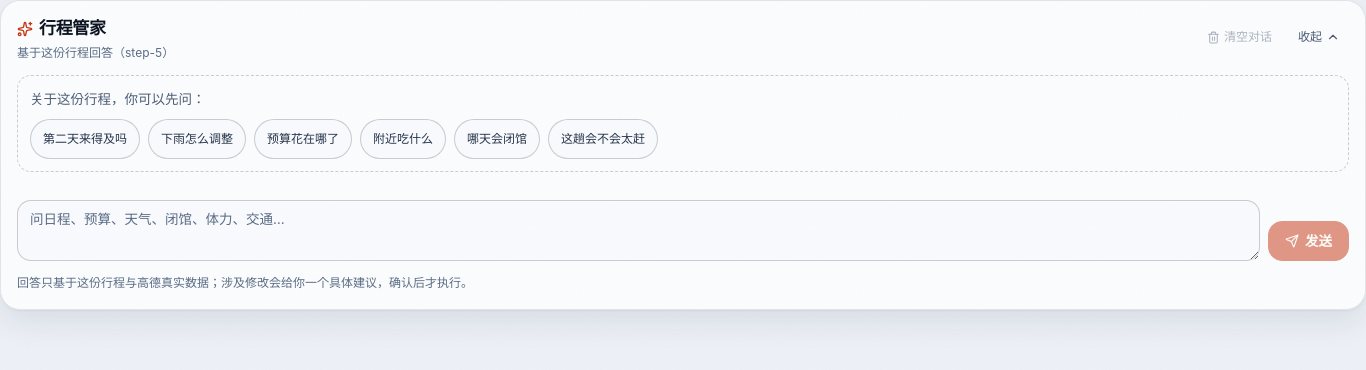
it: PlanCopilot › 点推荐问题即发送：POST /api/plan/chat，body 带 shareId 且最后一条是 user
Click the button "第二天来得及吗": coordinates (85, 139) [30,119,140,159]
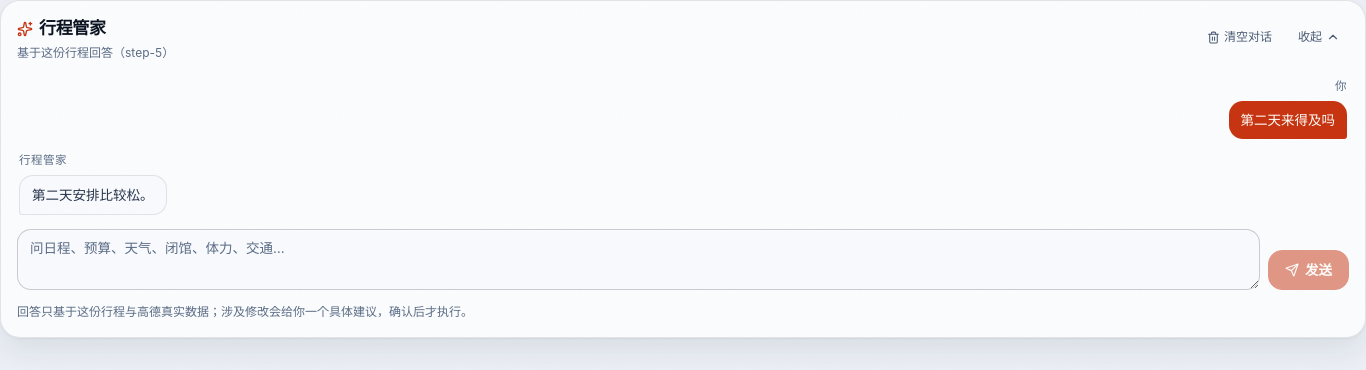
Check: the text "第二天安排比较松。" is shown, box [19,174,166,215]
